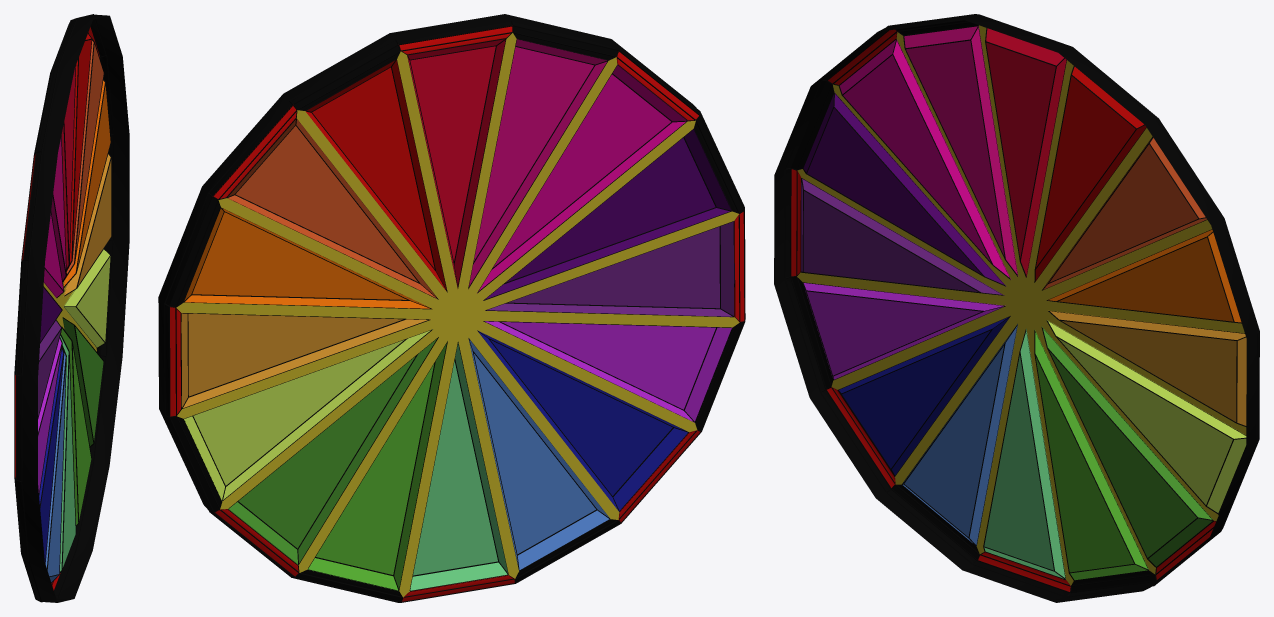
File: Fighting (1) 1.fbx
3 renders of one model, left to right at view 1: azimuth 30°, elevation 25°; view 2: azimuth 150°, elevation 25°; view 3: azimuth 270°, elevation 25°, orthographic. The views are drawn at different scales.
Visible parts, largest first — view 1: Cylinder.006; view 2: Cylinder.006; view 3: Cylinder.006.
Part boxes in pixels (x1,y1,x2,y2): Cylinder.006: (14,14,129,602); Cylinder.006: (158,14,745,602); Cylinder.006: (774,14,1259,602).
Bounding box in the file's own units: 660 × 1006 × 802.
